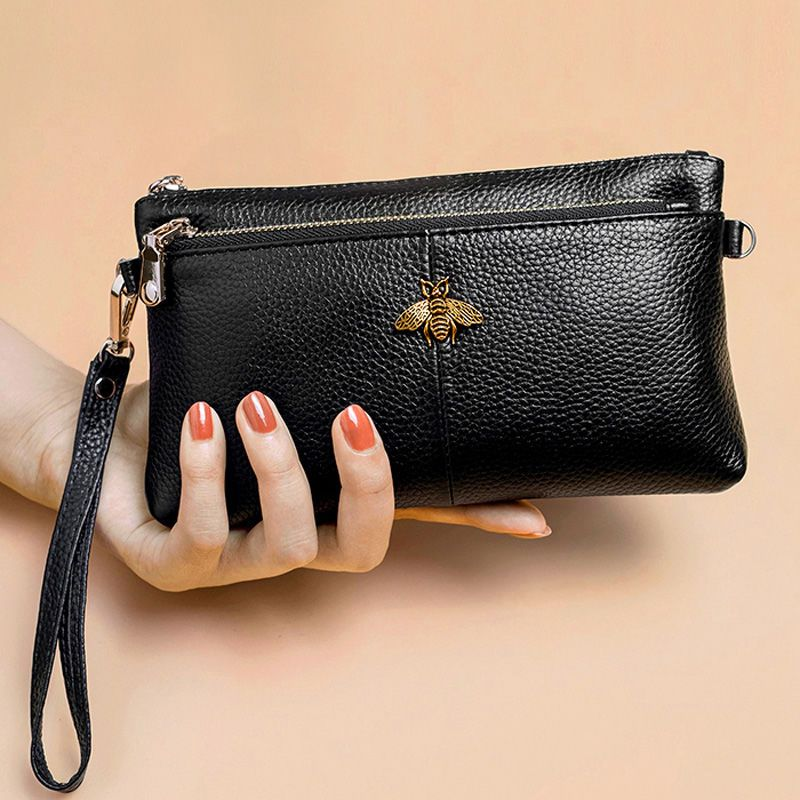no-phone: (89, 147, 754, 597)
